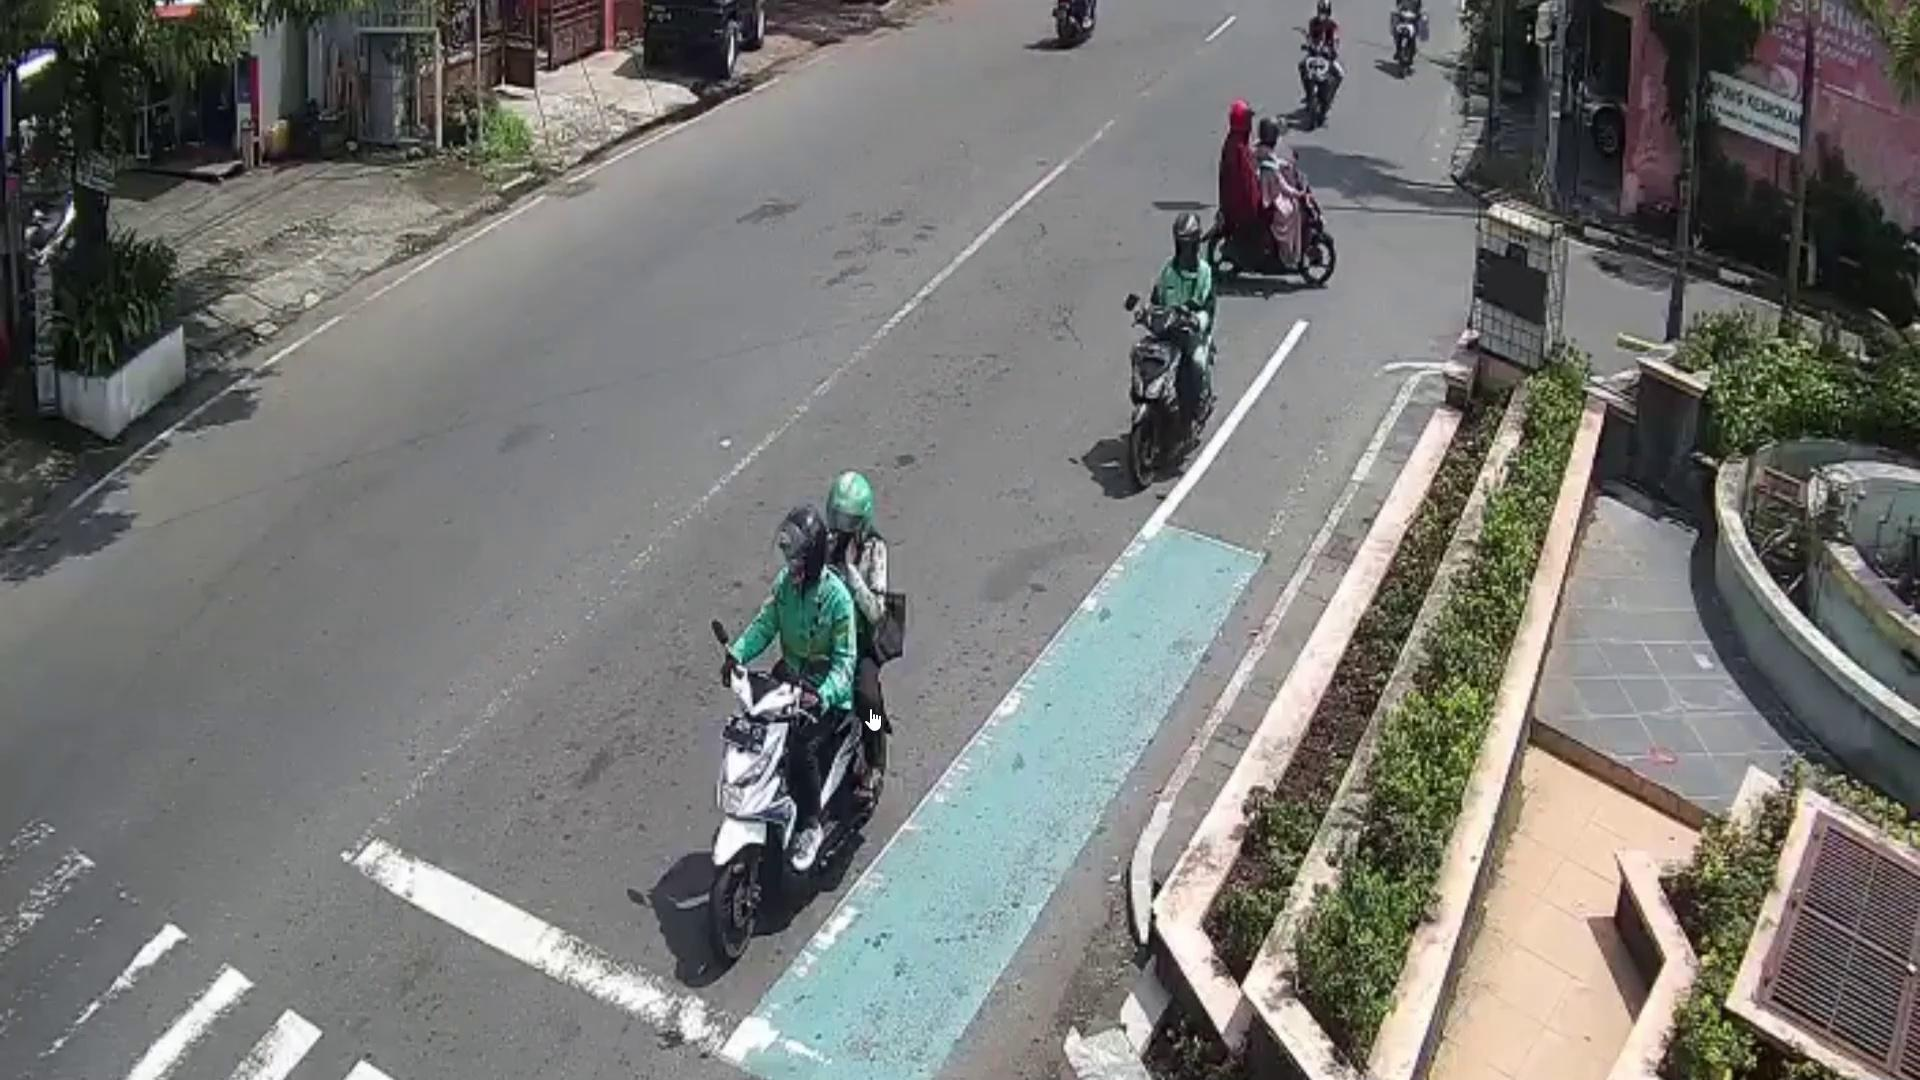motorbike: (709, 667, 887, 965), (1208, 162, 1337, 298), (1133, 303, 1217, 485), (1299, 33, 1342, 125)
